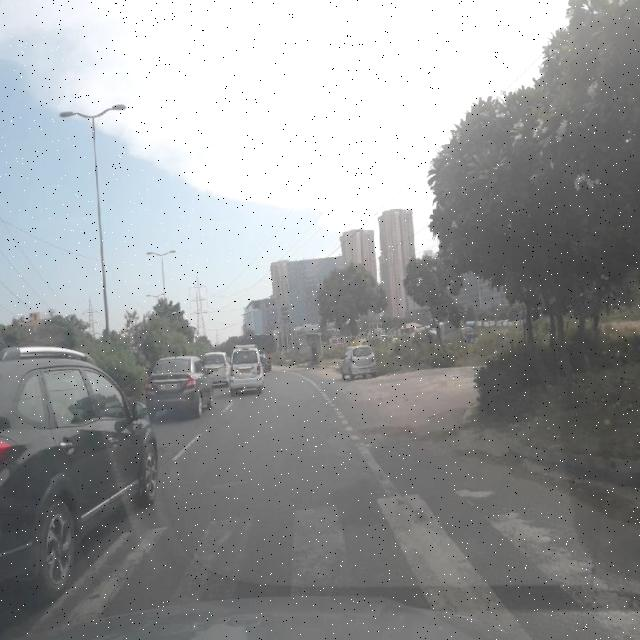D43: (43, 460, 599, 634)
